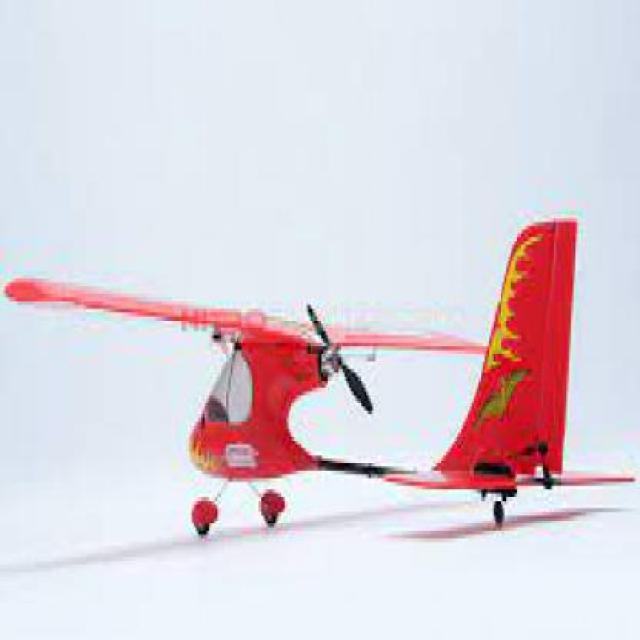iha: (4, 218, 640, 511)
